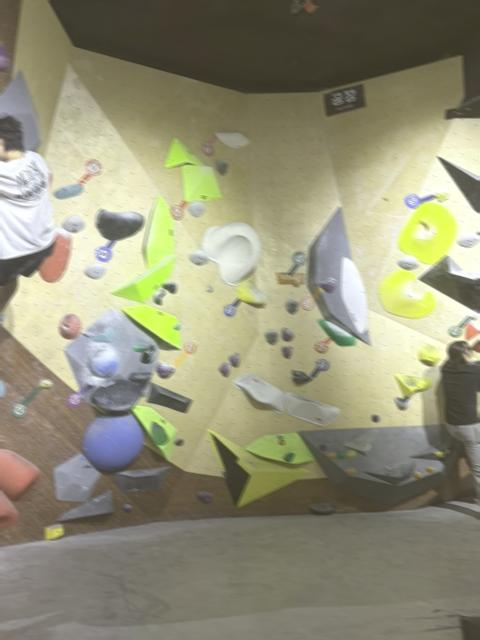crimp: (54, 182, 83, 198), (93, 327, 116, 342), (433, 192, 449, 201), (133, 344, 152, 351), (40, 379, 51, 388)
downhold: (62, 214, 85, 232), (84, 262, 106, 278), (398, 254, 419, 269), (458, 232, 479, 246), (190, 249, 209, 264), (187, 201, 205, 216), (264, 329, 278, 344), (216, 159, 229, 175), (286, 298, 299, 314)
jib: (45, 523, 63, 539)
jug: (38, 228, 71, 282), (96, 208, 144, 240), (318, 319, 356, 345), (237, 279, 267, 304), (216, 131, 249, 148), (155, 361, 175, 378), (292, 369, 312, 384), (319, 277, 337, 292), (153, 288, 166, 304), (163, 280, 177, 293), (282, 327, 293, 341), (228, 352, 239, 366), (220, 362, 230, 376), (282, 346, 292, 358)
ledge: (111, 254, 176, 301), (284, 392, 340, 425), (182, 164, 222, 201), (147, 382, 191, 412), (394, 374, 432, 396)
pinch: (418, 344, 440, 365), (310, 502, 334, 514), (197, 490, 212, 502), (344, 449, 357, 457), (433, 451, 446, 458), (424, 464, 435, 472), (123, 503, 132, 512), (371, 413, 380, 422), (346, 466, 356, 474), (318, 442, 327, 450), (412, 471, 422, 478), (327, 451, 337, 458), (336, 452, 346, 458), (205, 284, 212, 291)
pocket: (398, 203, 456, 263), (58, 313, 82, 339)
sidepull: (379, 269, 436, 318), (144, 194, 174, 267), (341, 257, 367, 332), (141, 344, 154, 362)
sloper: (83, 412, 144, 471), (203, 222, 260, 284), (88, 347, 117, 376)
tape: (11, 379, 51, 416), (173, 341, 196, 367), (78, 159, 102, 183), (300, 286, 324, 309), (67, 384, 90, 407), (449, 315, 472, 336), (404, 193, 435, 208), (95, 240, 116, 261), (288, 251, 306, 275), (201, 134, 219, 156), (310, 358, 329, 377), (170, 200, 187, 219), (224, 298, 241, 316), (314, 337, 332, 353)
undercling: (122, 304, 181, 348), (132, 404, 176, 460), (246, 432, 314, 464), (232, 372, 283, 412), (0, 449, 40, 499), (91, 378, 141, 411), (165, 137, 204, 167), (394, 396, 409, 409)
volume: (298, 424, 461, 504), (64, 309, 159, 410), (306, 206, 370, 344), (206, 429, 309, 506), (420, 255, 480, 313), (54, 453, 100, 499), (57, 490, 113, 521), (114, 467, 169, 492)
